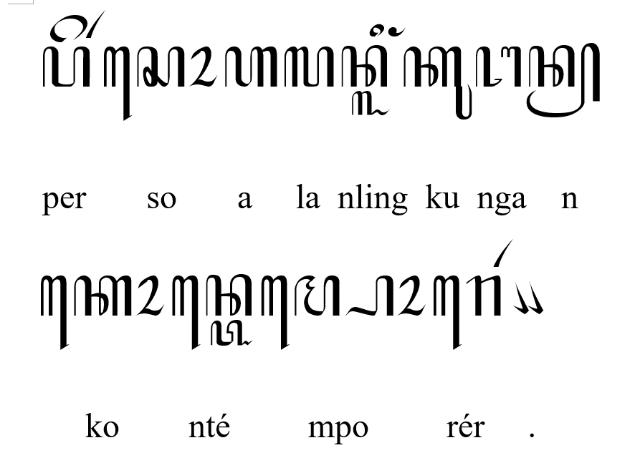-n: (526, 41, 600, 118)
_l: (351, 90, 391, 116)
_p: (346, 274, 394, 318)
_r1: (492, 239, 514, 269), (85, 9, 105, 39)
_t: (210, 319, 252, 347)
e: (50, 13, 88, 43)
e1: (40, 275, 70, 351), (260, 276, 290, 352), (432, 276, 462, 352), (172, 274, 200, 352), (104, 47, 132, 121)
h: (224, 46, 278, 88)
i: (368, 24, 384, 38)
k: (73, 275, 133, 317)
kom: (526, 281, 542, 316), (513, 281, 529, 315)
ku: (403, 46, 473, 121)
l: (284, 46, 334, 88)
m: (294, 274, 342, 318)
n: (340, 44, 388, 88), (204, 274, 252, 318)
ng: (388, 26, 406, 36)
nga: (474, 46, 522, 88)
o: (136, 274, 166, 318), (190, 46, 218, 88), (397, 275, 425, 317)
p: (42, 46, 92, 88)
r: (466, 275, 502, 317)
s: (136, 46, 184, 88)
